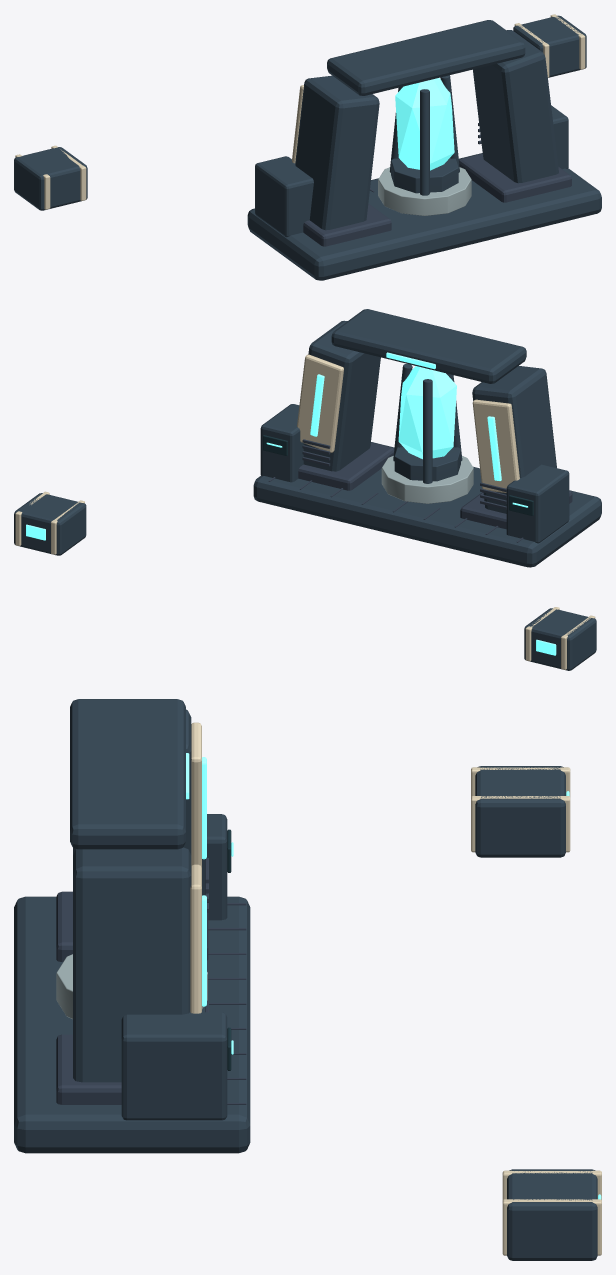
File: valorant.glb
3 renders of one model, top to bottom at view 1: azimuth 30°, elevation 25°; view 2: azimuth 150°, elevation 25°; view 3: azimuth 270°, elevation 25°, orthographic. The views are drawn at different scales.
Parts seen in each view (by area): view 1: Radianite platform, Angular reactor pylon, Angular reactor pylon.001, Reactor crown, Faceted radianite core, Equipment rack, Radianite supply crate, Containment ring, Radianite supply crate.001, Pylon footing.001, Pylon footing, Crystal cradle (+3 smaller); view 2: Radianite platform, Reactor crown, Angular reactor pylon.001, Angular reactor pylon, Faceted radianite core, Equipment rack, Radianite supply crate.001, Ceramic armor panel.001, Radianite supply crate, Ceramic armor panel, Containment ring, Equipment rack.001 (+6 smaller); view 3: Radianite platform, Angular reactor pylon.001, Reactor crown, Equipment rack.001, Radianite supply crate, Radianite supply crate.001, Pylon footing.001, Equipment rack, Ceramic armor panel.001, Ceramic armor panel, Pylon footing, Containment ring (+2 smaller).
Boxes of the visible parts, x1=… form: Radianite platform: x1=247, y1=153, x2=601, y2=280; Angular reactor pylon: x1=295, y1=75, x2=379, y2=230; Angular reactor pylon.001: x1=473, y1=30, x2=558, y2=183; Reactor crown: x1=327, y1=20, x2=525, y2=95; Faceted radianite core: x1=395, y1=78, x2=454, y2=170; Equipment rack: x1=255, y1=156, x2=313, y2=237; Radianite supply crate: x1=14, y1=147, x2=87, y2=210; Containment ring: x1=378, y1=167, x2=471, y2=215; Radianite supply crate.001: x1=513, y1=15, x2=586, y2=77; Pylon footing.001: x1=459, y1=153, x2=571, y2=202; Pylon footing: x1=303, y1=203, x2=391, y2=246; Crystal cradle: x1=391, y1=158, x2=458, y2=193; Radianite platform: x1=253, y1=442, x2=601, y2=567; Reactor crown: x1=331, y1=309, x2=526, y2=383; Angular reactor pylon.001: x1=303, y1=320, x2=380, y2=471; Angular reactor pylon: x1=472, y1=366, x2=556, y2=513; Faceted radianite core: x1=398, y1=366, x2=456, y2=459; Equipment rack: x1=506, y1=464, x2=569, y2=543; Radianite supply crate.001: x1=14, y1=493, x2=86, y2=555; Ceramic armor panel.001: x1=297, y1=354, x2=343, y2=452; Radianite supply crate: x1=524, y1=608, x2=596, y2=670; Ceramic armor panel: x1=472, y1=399, x2=519, y2=492; Containment ring: x1=381, y1=456, x2=473, y2=503; Equipment rack.001: x1=260, y1=404, x2=303, y2=482; Radianite platform: x1=14, y1=896, x2=250, y2=1153; Angular reactor pylon.001: x1=73, y1=847, x2=191, y2=1082; Reactor crown: x1=70, y1=699, x2=185, y2=849; Equipment rack.001: x1=121, y1=1012, x2=227, y2=1120; Radianite supply crate: x1=475, y1=766, x2=565, y2=857; Radianite supply crate.001: x1=507, y1=1169, x2=597, y2=1260; Pylon footing.001: x1=56, y1=1034, x2=121, y2=1104; Equipment rack: x1=202, y1=814, x2=227, y2=920; Ceramic armor panel.001: x1=190, y1=864, x2=201, y2=1013; Ceramic armor panel: x1=191, y1=722, x2=201, y2=867; Pylon footing: x1=56, y1=891, x2=208, y2=961; Containment ring: x1=56, y1=954, x2=207, y2=1018.
Size of the model in its own units: 4.95 by 1.47 by 2.78.
